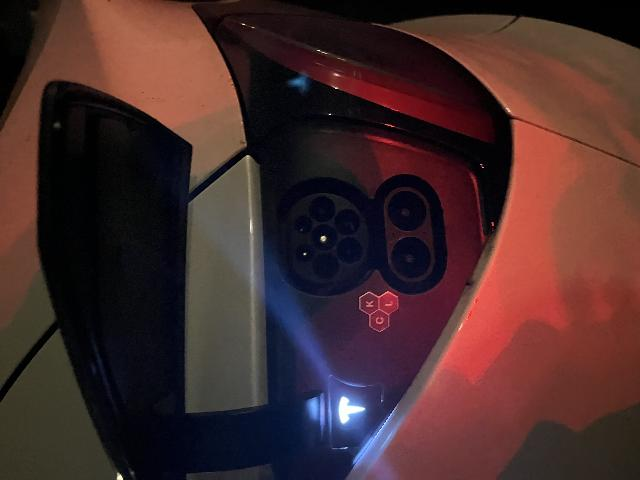inlet: (197, 288, 287, 369)
inlet-above-left: (217, 295, 236, 314)
inlet-above-right: (246, 294, 265, 312)
inlet-below-left: (217, 336, 243, 363)
inlet-below-right: (245, 334, 271, 360)
inlet-circle: (229, 311, 256, 337)
inlet-circle-left: (202, 312, 227, 339)
inlet-circle-right: (257, 309, 284, 335)
inlet-minus: (249, 387, 290, 427)
inlet-plus: (202, 391, 243, 431)
